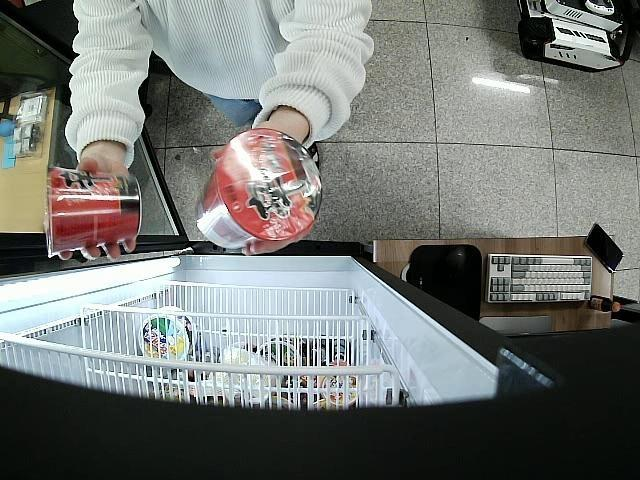02_shinRamen_S: (194, 128, 324, 246), (41, 167, 142, 247)
